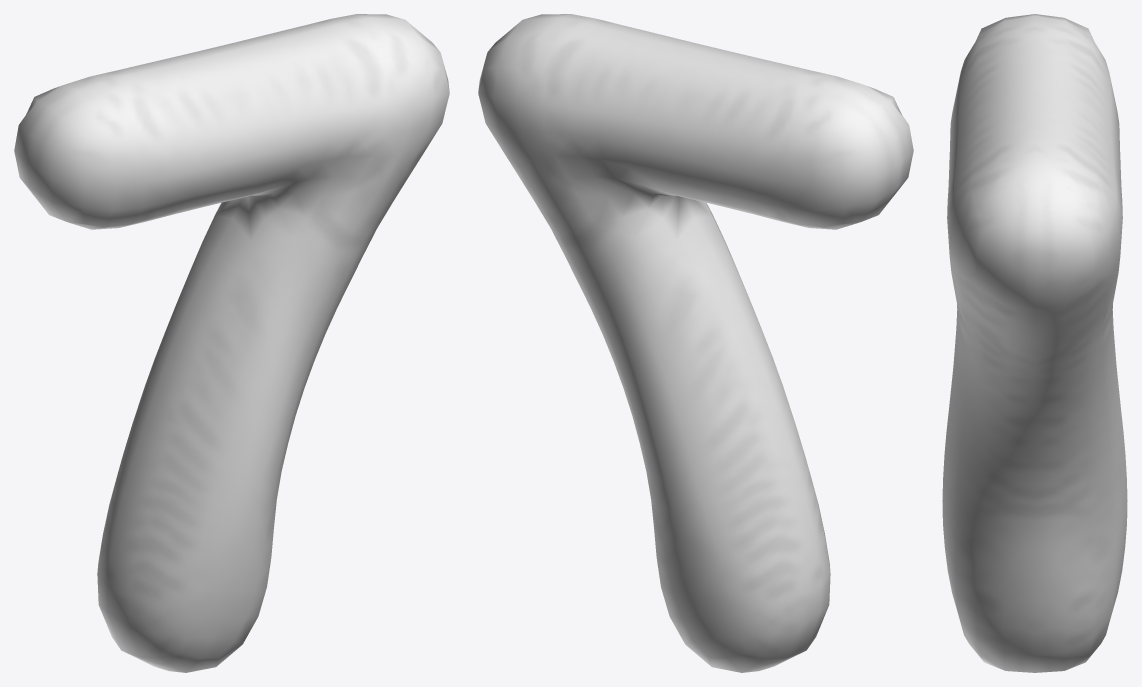
Rendered from LettersBalloon01_7.FBX.
The picture shows the model from 3 angles, left to right: view 1: azimuth 30°, elevation 25°; view 2: azimuth 150°, elevation 25°; view 3: azimuth 270°, elevation 25°; orthographic projection.
Parts seen in each view (by area): view 1: LettersBalloon01_7; view 2: LettersBalloon01_7; view 3: LettersBalloon01_7.
Boxes of the visible parts, x1,y1,x2,y2 form: LettersBalloon01_7: [14, 14, 449, 672]; LettersBalloon01_7: [478, 14, 913, 672]; LettersBalloon01_7: [942, 14, 1127, 672].
Size of what is drawn, in the model's own units: 0.3452 by 0.4804 by 0.1334.
